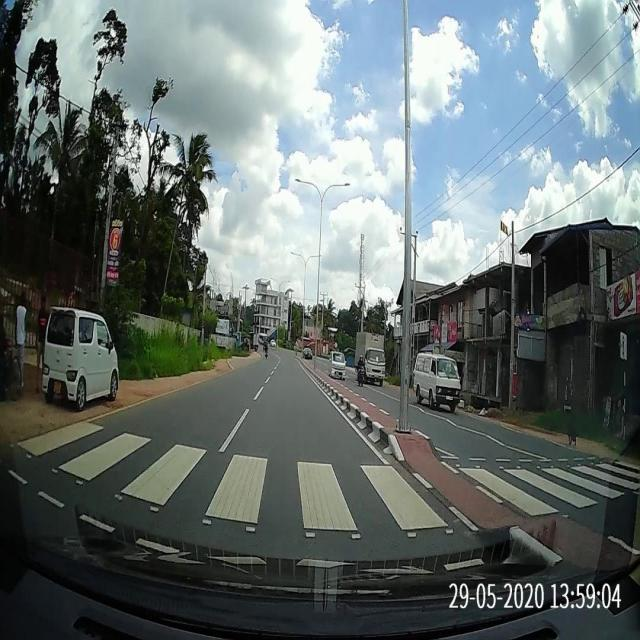Crosswalk: (3, 414, 640, 579)
